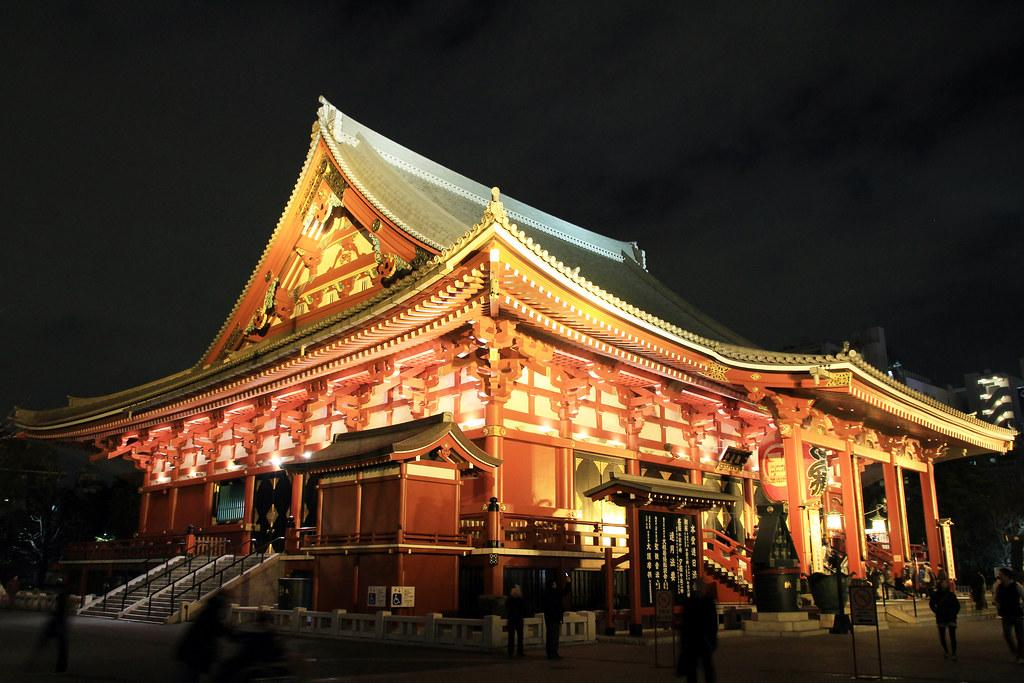temple: (5, 94, 1021, 644)
